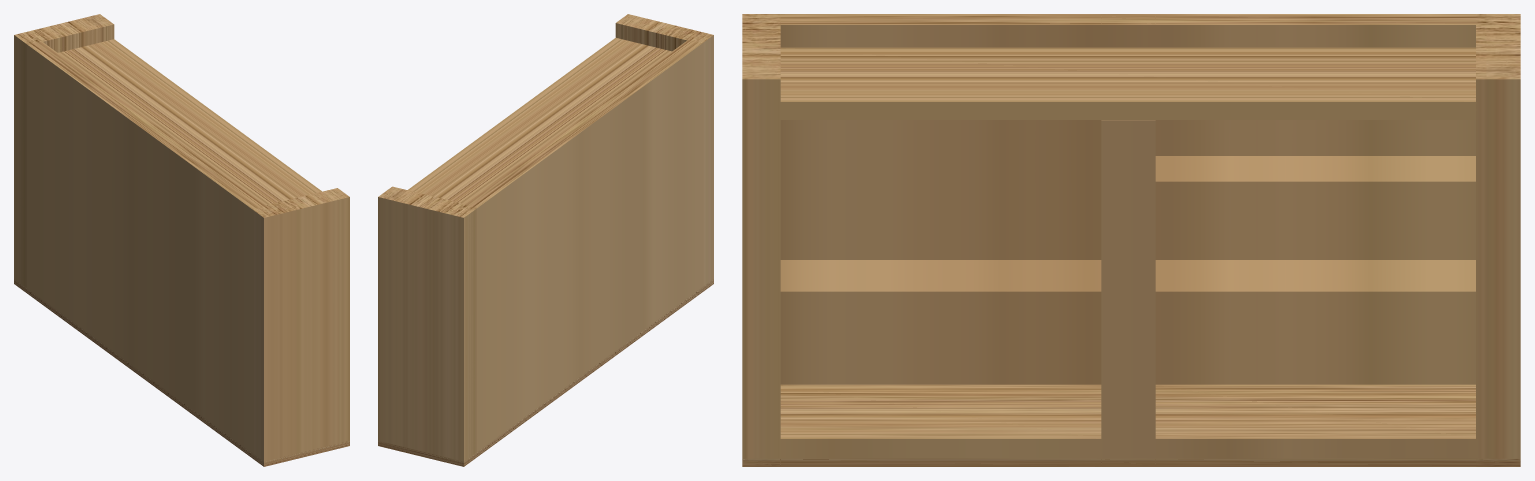
Rendered from lemari2.glb.
The picture shows the model from 3 angles, left to right: view 1: azimuth 30°, elevation 25°; view 2: azimuth 150°, elevation 25°; view 3: azimuth 270°, elevation 25°; orthographic projection. The views are drawn at different scales.
Parts seen in each view (by area): view 1: Cube; view 2: Cube; view 3: Cube.
Boxes of the visible parts, x1,y1,x2,y2 form: Cube: (14,14,349,466); Cube: (378,14,713,466); Cube: (742,14,1520,466).
Size of the model in its own units: 2 by 5.54 by 10.08.
1 material, 1 textured.
